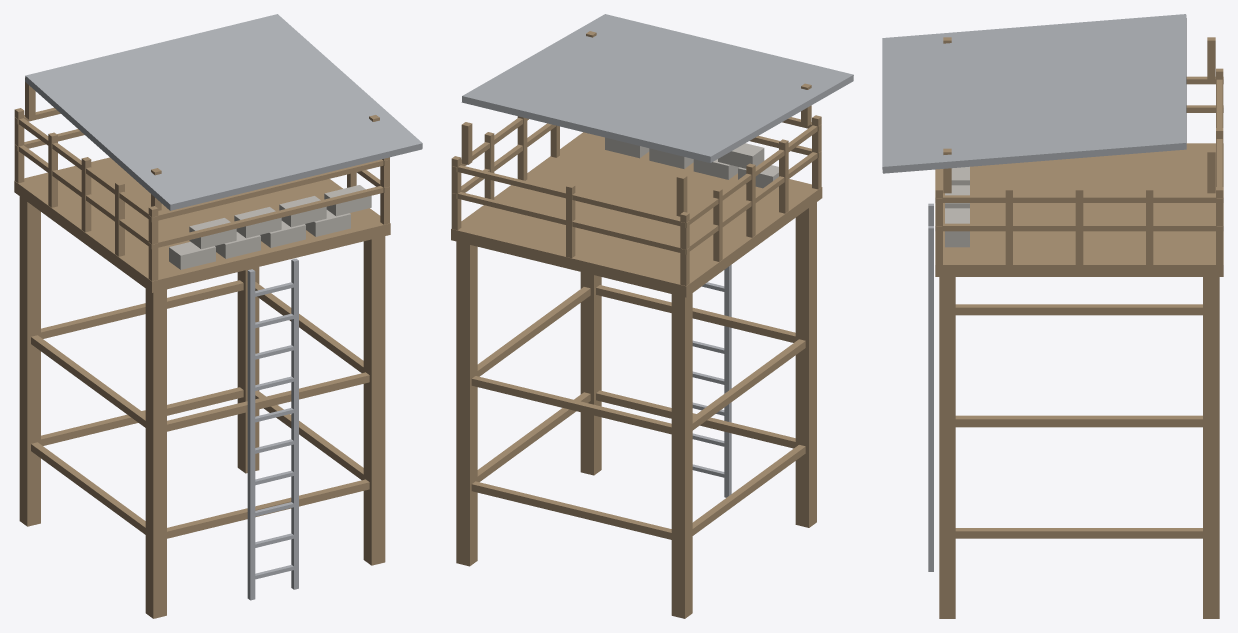
Rendered from tower.glb.
The picture shows the model from 3 angles, left to right: view 1: azimuth 30°, elevation 25°; view 2: azimuth 150°, elevation 25°; view 3: azimuth 270°, elevation 25°; orthographic projection. The views are drawn at different scales.
Visible parts, largest first — view 1: tower; view 2: tower; view 3: tower.
Boxes of the visible parts, x1=… form: tower: x1=14, y1=14, x2=422, y2=618; tower: x1=451, y1=14, x2=853, y2=618; tower: x1=882, y1=14, x2=1223, y2=618.
Bounding box in the file's own units: 3.7 × 6.44 × 4.14.
